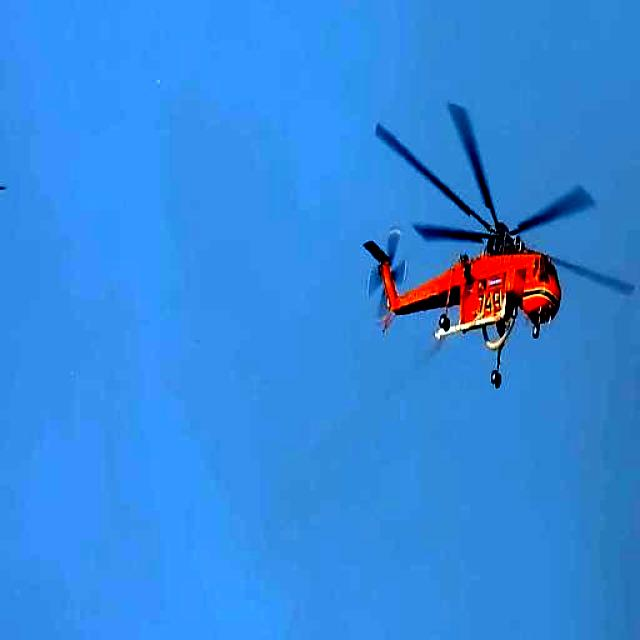drone: (362, 94, 638, 395)
